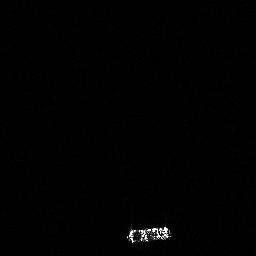ship: (126, 226, 170, 242)
